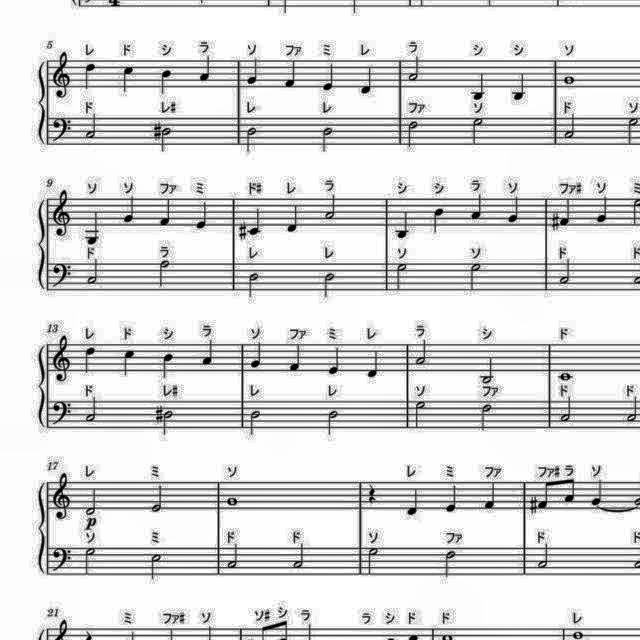Bass-clef: (48, 114, 76, 148), (48, 543, 76, 573), (51, 262, 74, 290), (52, 398, 72, 426)
Diez: (236, 218, 248, 242), (153, 402, 165, 426), (550, 212, 562, 232), (150, 120, 162, 140), (528, 496, 540, 516)
Eighth-note: (536, 476, 558, 512), (560, 476, 580, 506)
Full-note: (554, 370, 578, 382), (562, 75, 576, 87), (226, 496, 238, 508)
Half-note: (478, 354, 502, 384), (466, 260, 484, 298), (316, 124, 336, 156), (562, 111, 582, 143), (80, 394, 100, 426), (533, 542, 555, 570), (412, 397, 430, 431), (244, 407, 264, 437), (320, 192, 340, 222), (155, 258, 173, 290), (394, 260, 410, 296), (82, 485, 100, 517), (80, 546, 98, 578), (244, 270, 262, 300), (150, 483, 168, 513), (404, 54, 422, 84), (478, 402, 494, 434), (559, 394, 575, 426), (291, 542, 307, 574), (469, 117, 487, 145), (625, 114, 639, 150), (415, 338, 433, 366), (405, 119, 421, 149), (558, 259, 574, 289), (148, 552, 164, 582), (326, 408, 340, 442), (84, 114, 100, 142), (86, 258, 102, 286), (322, 270, 336, 302), (226, 541, 240, 571), (443, 548, 457, 578), (366, 546, 379, 578), (245, 124, 259, 152), (626, 395, 638, 425), (160, 124, 172, 152), (162, 410, 174, 438)
Quarter-note: (84, 210, 105, 250), (394, 207, 418, 241), (469, 71, 489, 105), (286, 342, 306, 376), (80, 59, 100, 92), (194, 200, 212, 236), (594, 192, 612, 228), (282, 58, 302, 90), (325, 344, 343, 378), (119, 194, 138, 226), (242, 57, 262, 87), (510, 71, 530, 101), (198, 339, 218, 369), (586, 479, 606, 509), (197, 54, 215, 86), (246, 206, 264, 238), (468, 192, 486, 224), (558, 196, 576, 228), (286, 204, 302, 238), (321, 62, 339, 92), (507, 194, 525, 224), (158, 198, 174, 230), (82, 346, 98, 378), (120, 346, 136, 378), (442, 484, 458, 516), (482, 482, 498, 514), (429, 205, 446, 235), (158, 352, 176, 380), (406, 488, 422, 518), (366, 347, 380, 381), (120, 65, 134, 95), (360, 65, 374, 95), (250, 339, 262, 373), (160, 68, 172, 95)
Quarter-rest: (364, 481, 381, 505)
Treble-clef: (50, 187, 76, 241), (51, 472, 78, 524), (50, 49, 76, 100), (50, 334, 74, 388)
